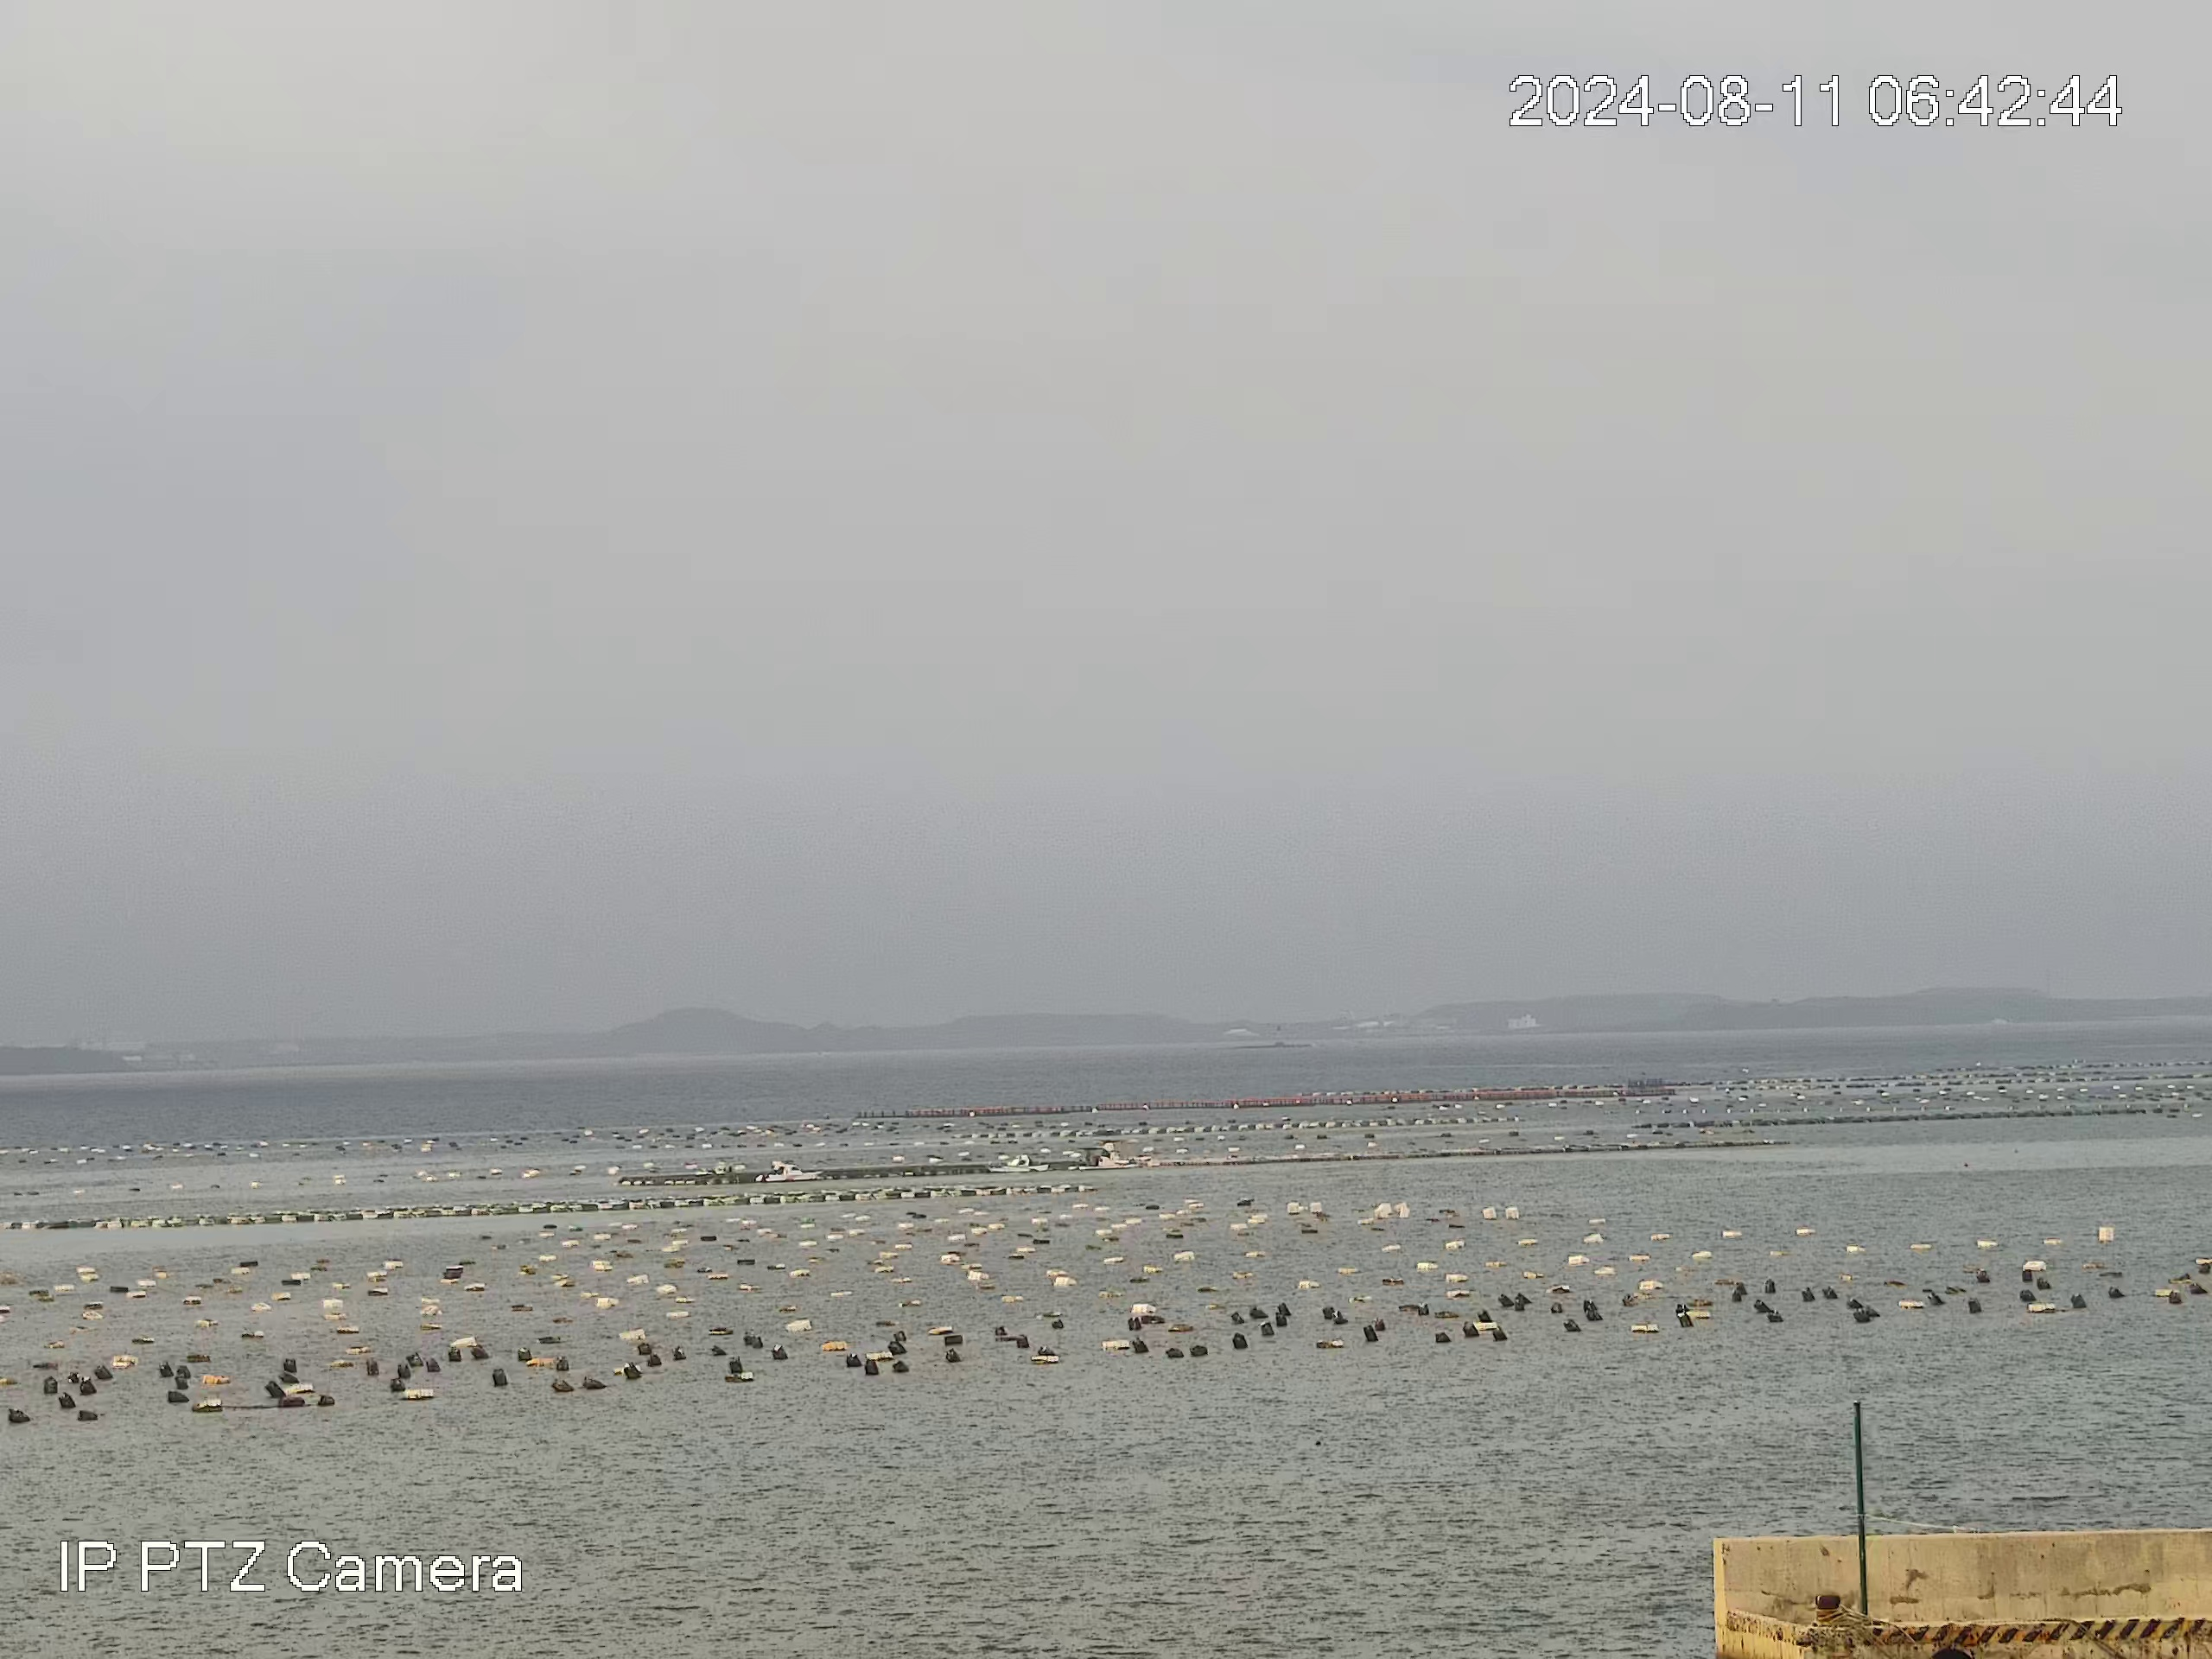boat: (752, 1159, 820, 1183), (986, 1152, 1050, 1175), (1066, 1154, 1118, 1171)
